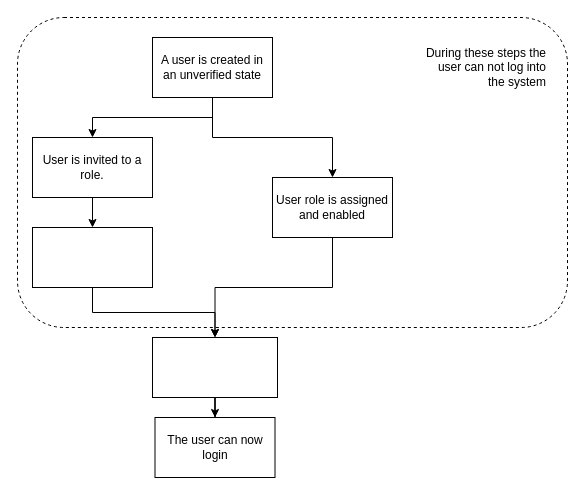
Some shapes in this 585 by 495 pixel diagram are drawn without their labels. Here are the shapes that lost their labels. From the top down, the centre of each, then its label:
point 92,257: User enables the role
point 215,367: When the user's first role is enabled, his status is set to verfied
